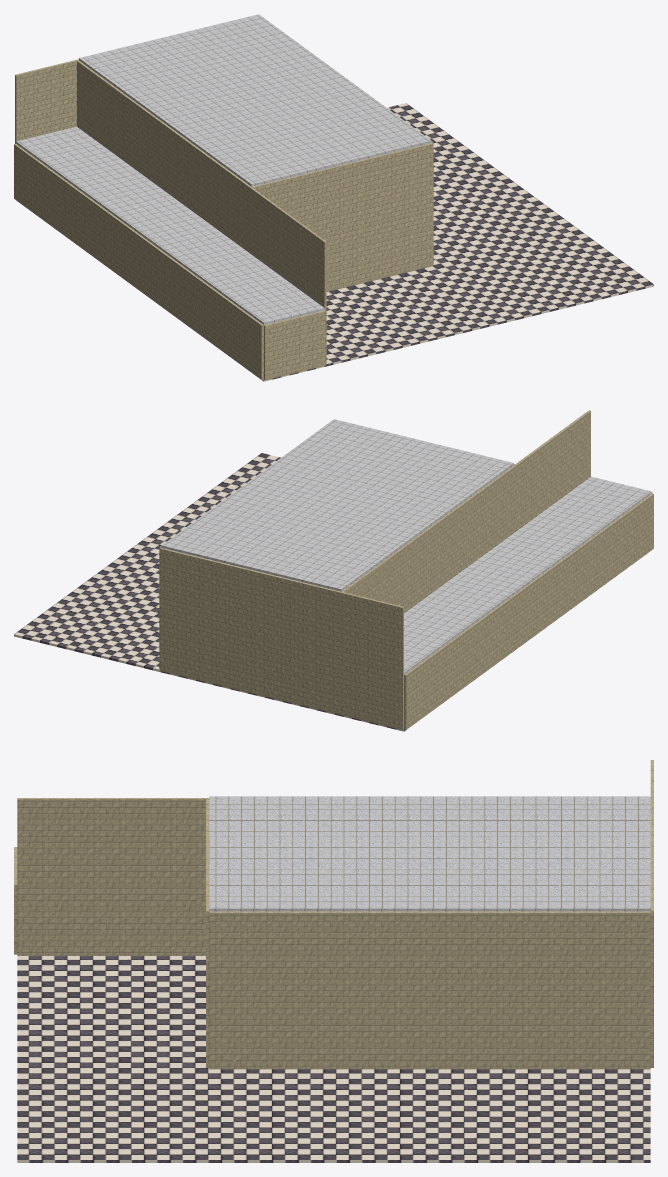
File: officeroom1.glb
The picture shows the model from 3 angles, top to bottom: view 1: azimuth 30°, elevation 25°; view 2: azimuth 150°, elevation 25°; view 3: azimuth 270°, elevation 25°; orthographic projection. The views are drawn at different scales.
Parts seen in each view (by area): view 1: entity0_brush0, entity0_brush10, entity0_brush8, entity0_brush4, entity0_brush1, entity0_brush2, entity0_brush5, entity0_brush6, entity0_brush9, entity0_brush3; view 2: entity0_brush10, entity0_brush5, entity0_brush1, entity0_brush4, entity0_brush2, entity0_brush0, entity0_brush9; view 3: entity0_brush0, entity0_brush7, entity0_brush10, entity0_brush2, entity0_brush5, entity0_brush8.
Boxes of the visible parts, left/top/right/bottom form: entity0_brush0: left=19, top=103, right=653, bottom=381; entity0_brush10: left=79, top=14, right=431, bottom=186; entity0_brush8: left=252, top=143, right=432, bottom=291; entity0_brush4: left=16, top=126, right=324, bottom=324; entity0_brush1: left=14, top=144, right=263, bottom=379; entity0_brush2: left=124, top=95, right=326, bottom=364; entity0_brush5: left=15, top=59, right=78, bottom=143; entity0_brush6: left=264, top=310, right=325, bottom=380; entity0_brush9: left=89, top=69, right=126, bottom=160; entity0_brush3: left=77, top=60, right=90, bottom=135; entity0_brush10: left=161, top=419, right=513, bottom=591; entity0_brush5: left=160, top=548, right=403, bottom=730; entity0_brush1: left=404, top=493, right=653, bottom=729; entity0_brush4: left=404, top=476, right=651, bottom=674; entity0_brush2: left=389, top=410, right=590, bottom=613; entity0_brush0: left=14, top=453, right=651, bottom=731; entity0_brush9: left=354, top=557, right=390, bottom=603; entity0_brush0: left=17, top=956, right=650, bottom=1162; entity0_brush7: left=209, top=911, right=650, bottom=1069; entity0_brush10: left=209, top=796, right=650, bottom=911; entity0_brush2: left=17, top=798, right=209, bottom=955; entity0_brush5: left=650, top=760, right=653, bottom=1067; entity0_brush8: left=206, top=799, right=209, bottom=1067.
Size of the model in its own units: 290 by 89.6 by 320.
Materials: 3 (3 with a texture image).
